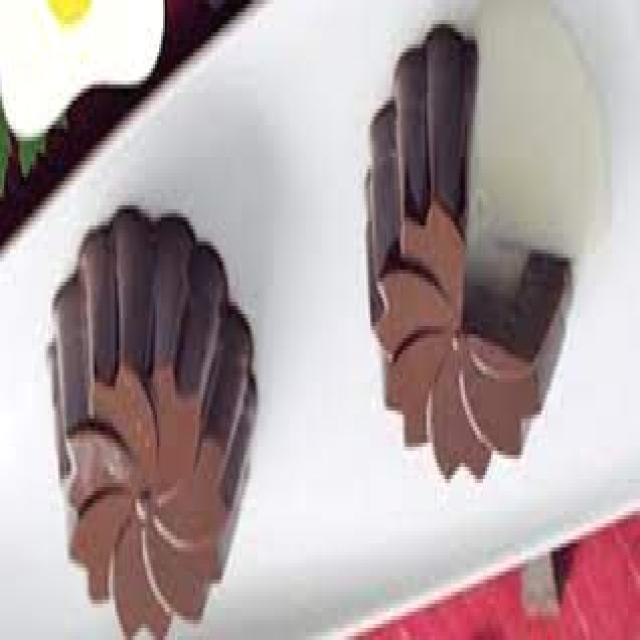puding: (46, 205, 260, 640)
